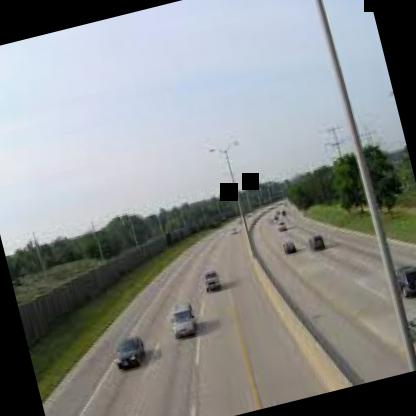car: (96, 332, 159, 382), (372, 256, 416, 311), (169, 298, 218, 344), (194, 256, 232, 300), (396, 287, 416, 365), (298, 221, 332, 256), (273, 230, 301, 266)
